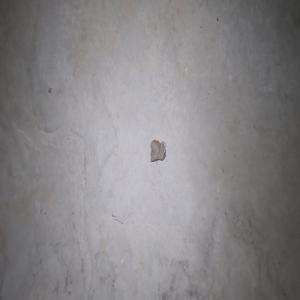Rock: (150, 138, 166, 162)
